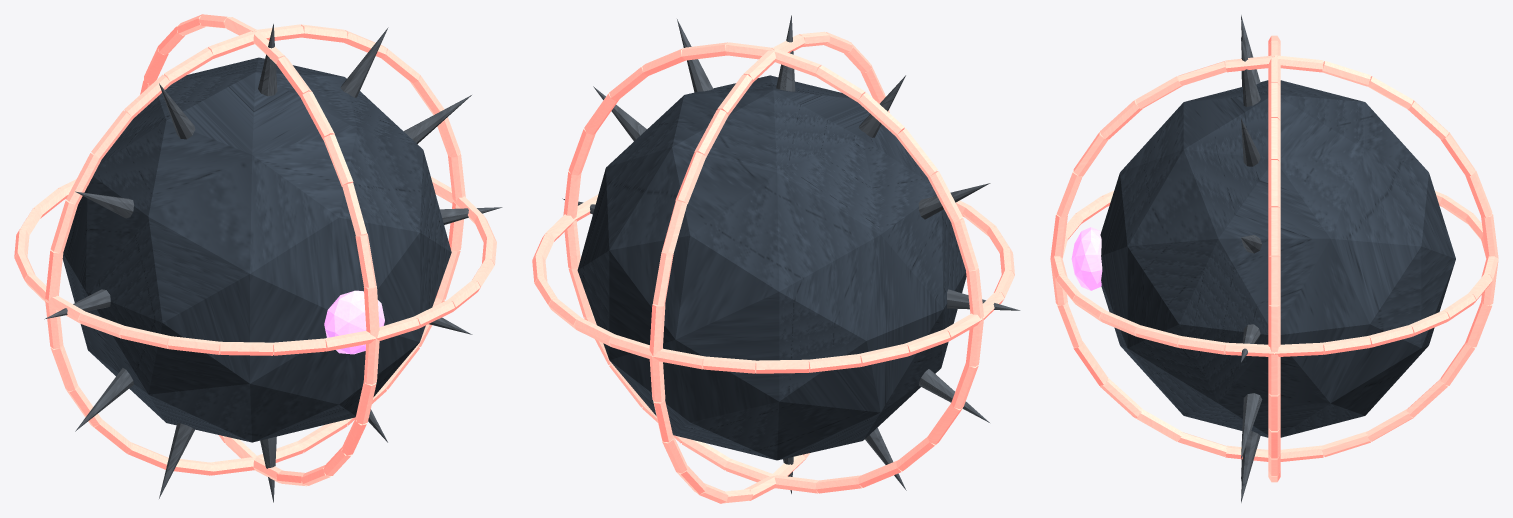
File: azrael_nexus.glb
3 renders of one model, left to right at view 1: azimuth 30°, elevation 25°; view 2: azimuth 150°, elevation 25°; view 3: azimuth 270°, elevation 25°, orthographic. The views are drawn at different scales.
Parts seen in each view (by area): view 1: blackiron, glowred, iron, glowviolet; view 2: blackiron, glowred, iron; view 3: blackiron, glowred, iron, glowviolet.
Boxes of the visible parts, left/top/right/bottom form: blackiron: left=62, top=57, right=451, bottom=442; glowred: left=14, top=14, right=496, bottom=486; iron: left=44, top=24, right=502, bottom=502; glowviolet: left=324, top=290, right=384, bottom=354; blackiron: left=577, top=75, right=966, bottom=460; glowred: left=532, top=31, right=1014, bottom=503; iron: left=562, top=15, right=1020, bottom=493; blackiron: left=1100, top=80, right=1455, bottom=437; glowred: left=1050, top=35, right=1498, bottom=482; iron: left=1241, top=15, right=1262, bottom=502; glowviolet: left=1071, top=227, right=1102, bottom=290.
Size of the model in its own units: 8.8 by 8.8 by 8.02.
Materials: 5 (5 with a texture image).
